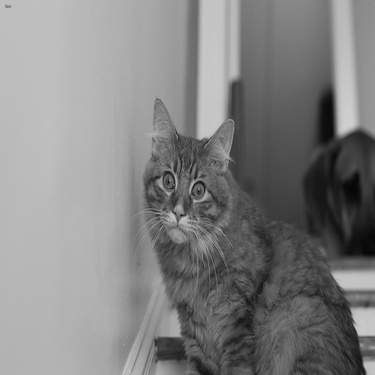cat: (89, 100, 364, 373)
